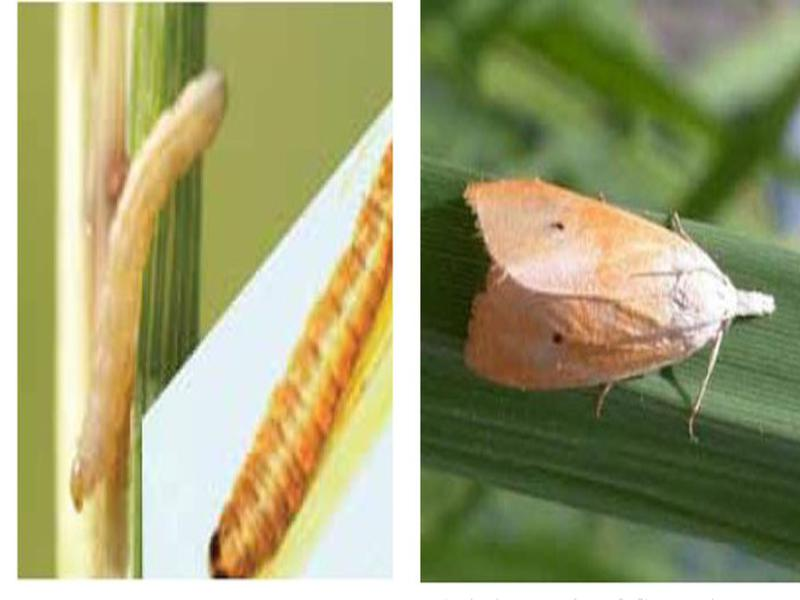Paddy_stemborer: (455, 163, 774, 417), (66, 49, 230, 534)
